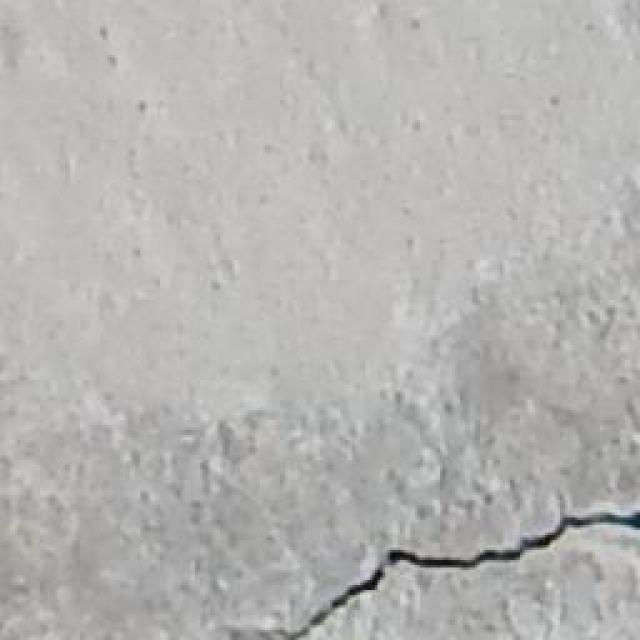concrete-crack: (278, 510, 640, 640)
